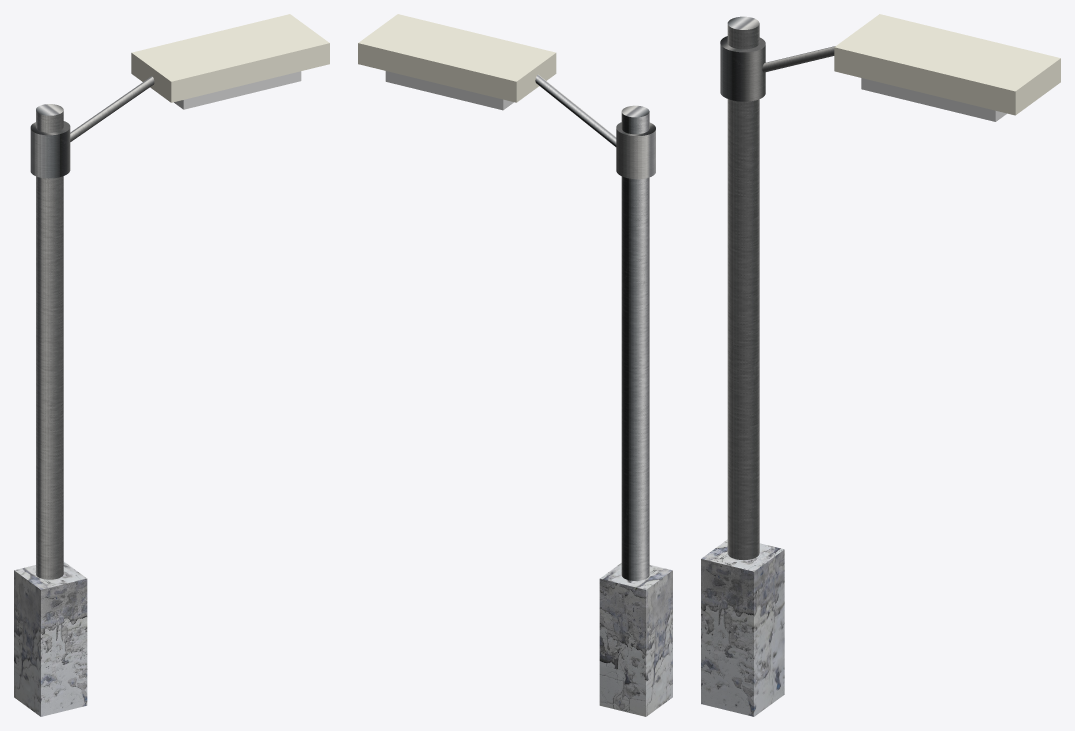
The model's file is lampara.fbx.
3 renders of one model, left to right at view 1: azimuth 30°, elevation 25°; view 2: azimuth 150°, elevation 25°; view 3: azimuth 330°, elevation 25°, orthographic. The views are drawn at different scales.
Visible parts, largest first — view 1: Cube.002; view 2: Cube.002; view 3: Cube.002.
Boxes of the visible parts, x1,y1,x2,y2 form: Cube.002: (14, 14, 329, 716); Cube.002: (358, 14, 672, 716); Cube.002: (701, 14, 1060, 716).
Bounding box in the file's own units: 2801 × 5788 × 684.
Materials: 4 (3 with a texture image).
